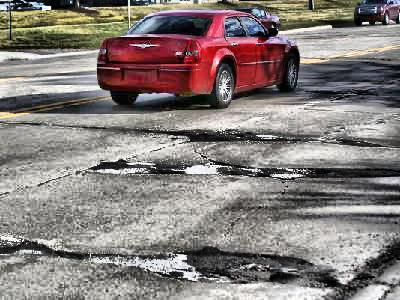pothole: (195, 247, 341, 290), (54, 247, 195, 277), (252, 165, 399, 179), (183, 127, 278, 142), (0, 238, 52, 255), (334, 137, 386, 149), (92, 157, 130, 172), (147, 165, 183, 175)
